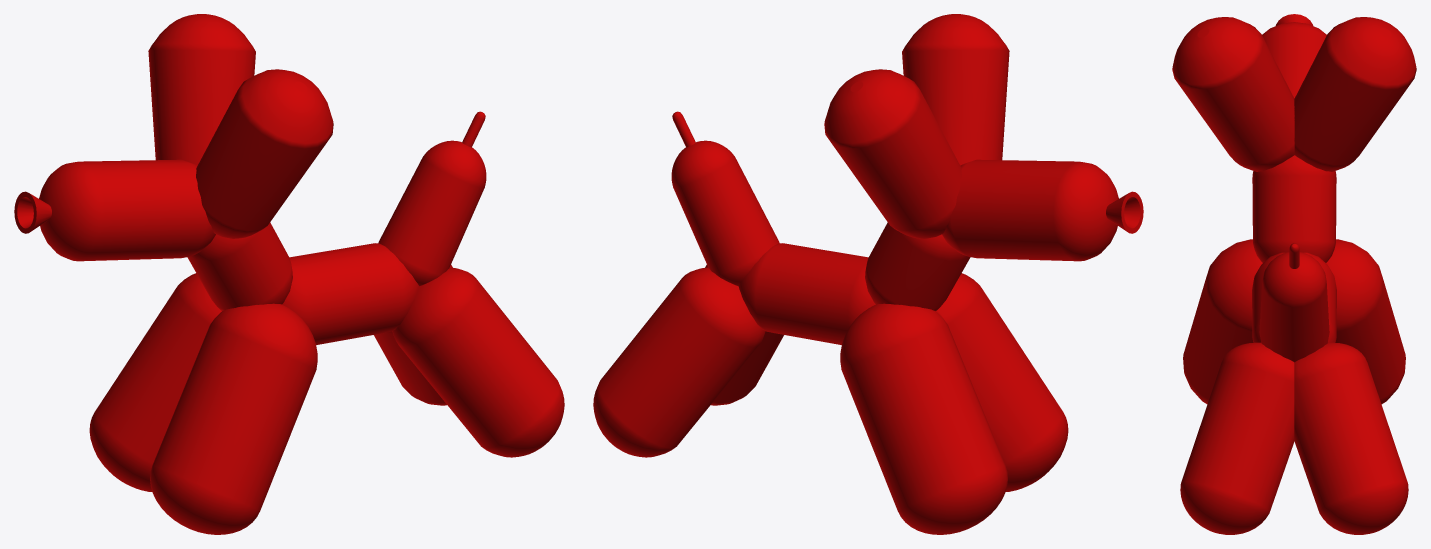
The model's file is RED DOG.fbx.
The picture shows the model from 3 angles, left to right: view 1: azimuth 30°, elevation 25°; view 2: azimuth 150°, elevation 25°; view 3: azimuth 270°, elevation 25°; orthographic projection. The views are drawn at different scales.
Parts seen in each view (by area): view 1: polySurface6; view 2: polySurface6; view 3: polySurface6.
Boxes of the visible parts, x1,y1,x2,y2 form: polySurface6: (14, 14, 564, 534); polySurface6: (593, 14, 1143, 534); polySurface6: (1172, 14, 1416, 534).
Size of the model in its own units: 9.35 by 8.01 by 4.3.
